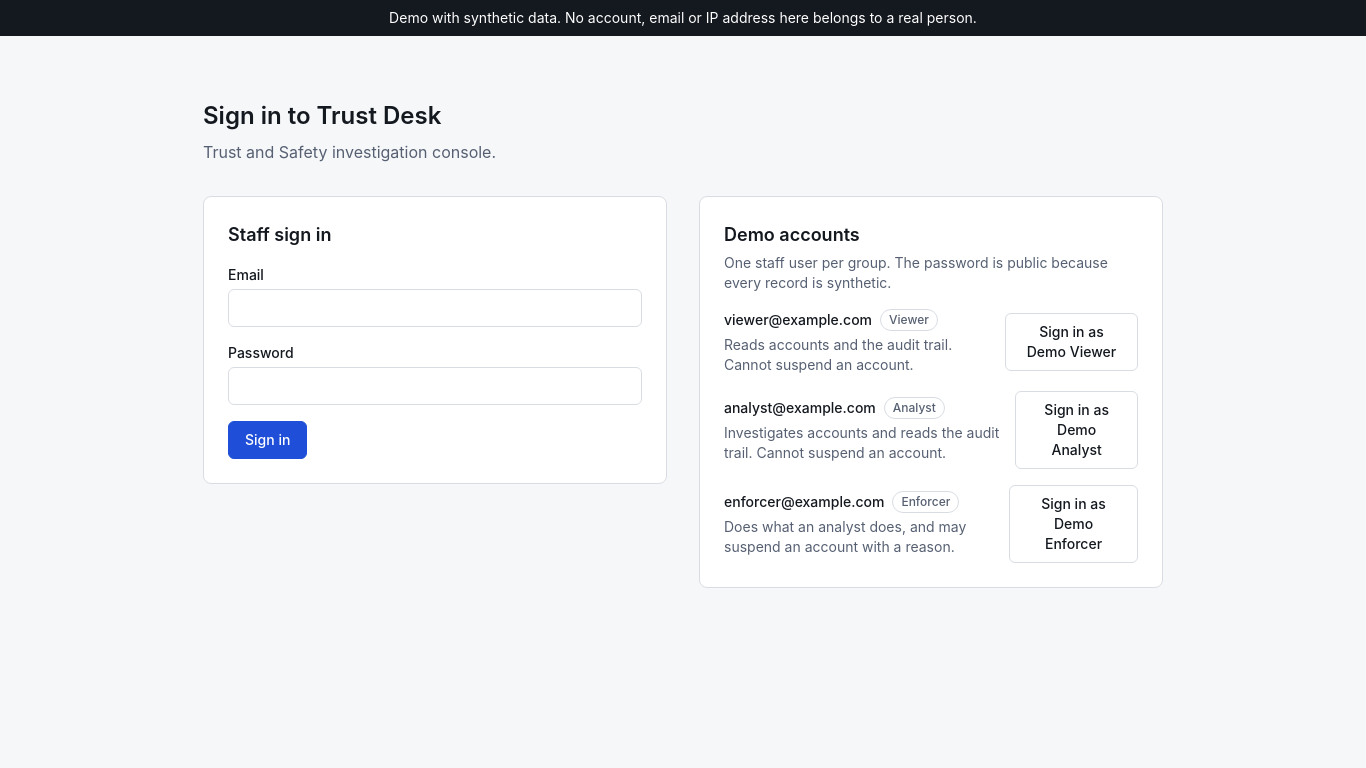
Test: LoginPage › shows a generic message on a 401 and never the server's wording
This screenshot has width=1366, height=768.
Type "nobody@example.com" into the field labelled "Email". click: (435, 308)
box: [228,289,642,327]
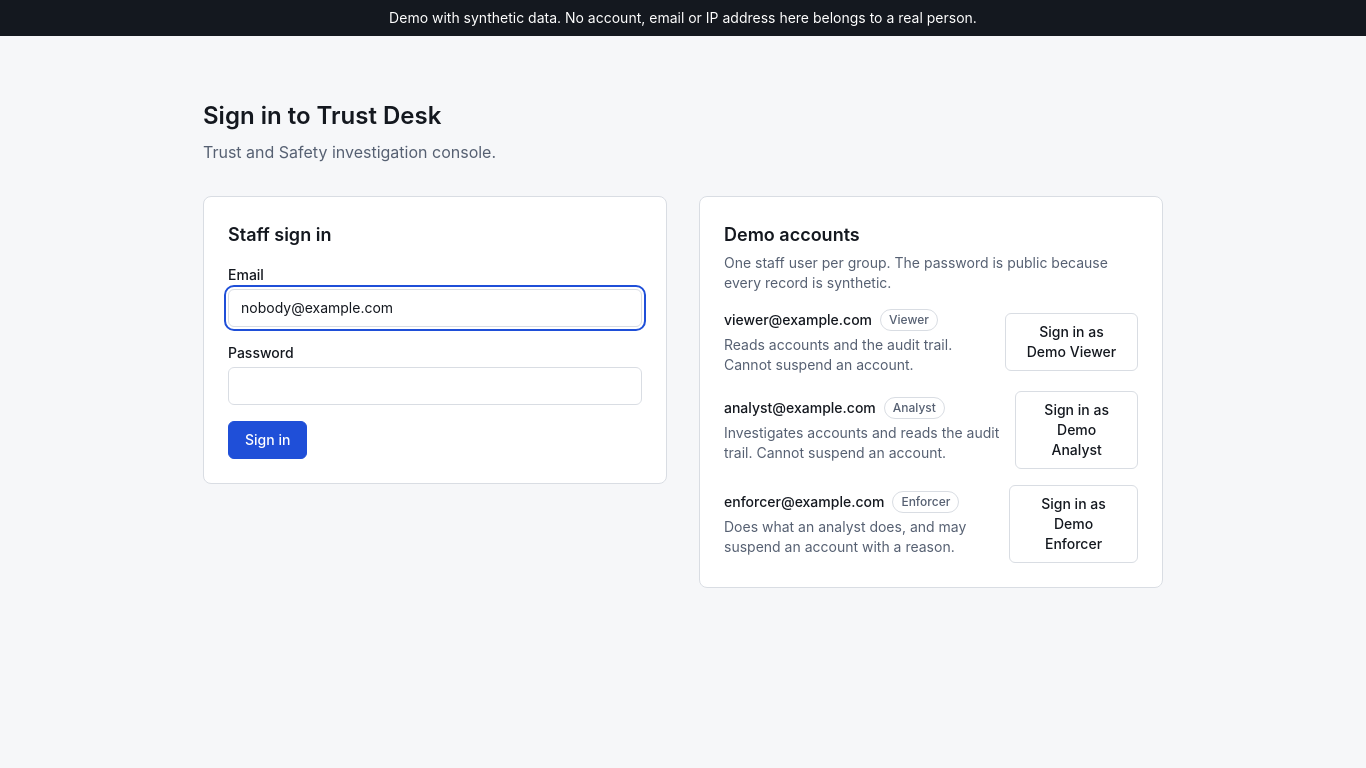
Type "wrong-password" into the password field labelled "Password". click: (435, 386)
box: [228,367,642,405]
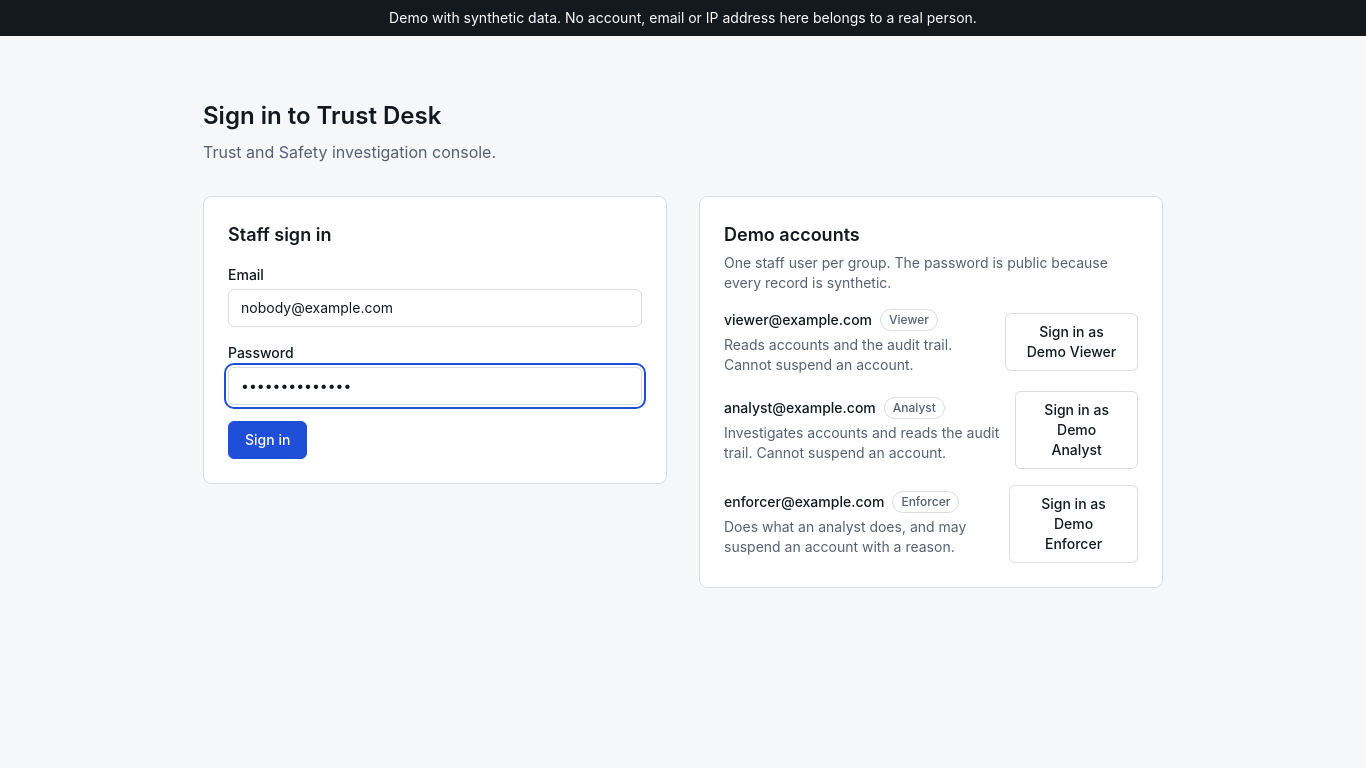
Click the button "Sign in". click: (268, 440)
box: [228,421,307,459]
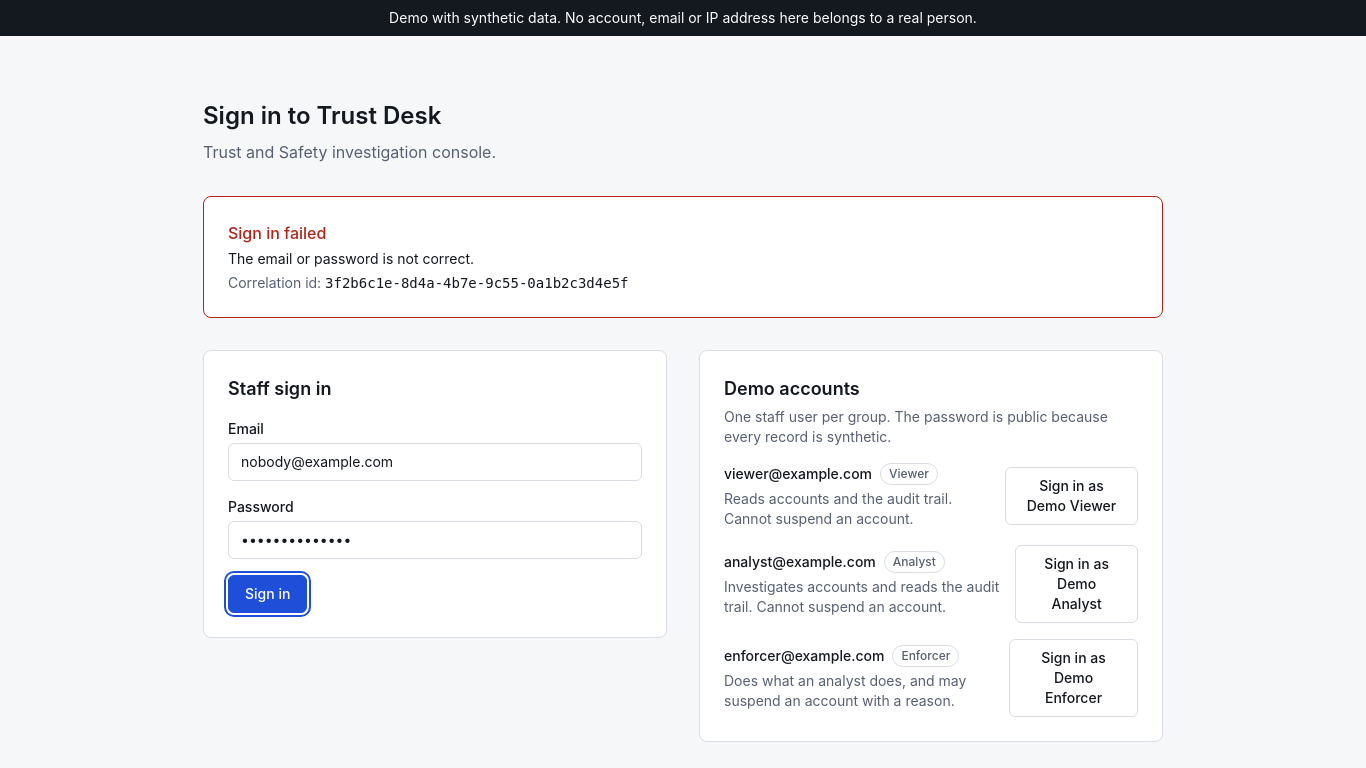
Result: the message shows "The email or password is not correct." at [228,250,474,267]
Result: the message shows "3f2b6c1e-8d4a-4b7e-9c55-0a1b2c3d4e5f" at [325,275,628,291]
